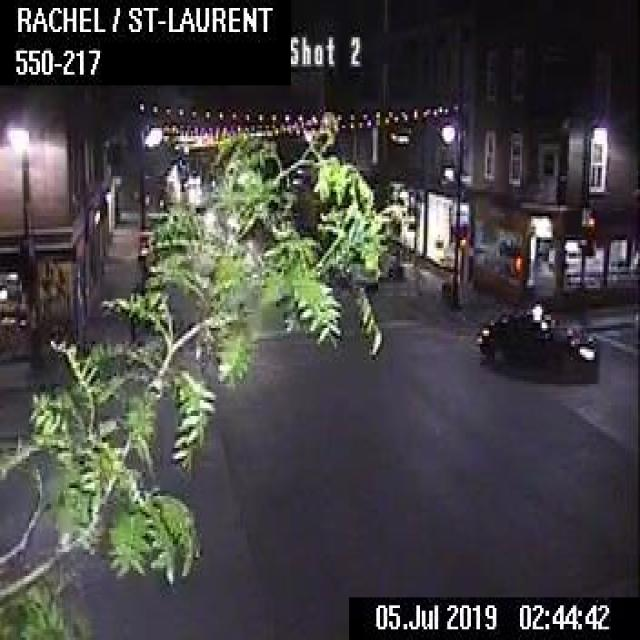vehicle: (478, 304, 598, 373)
